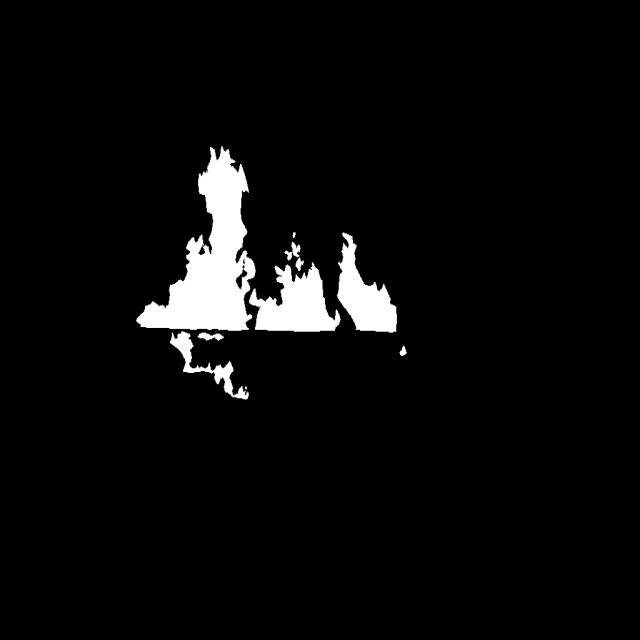fire: (103, 119, 456, 406)
